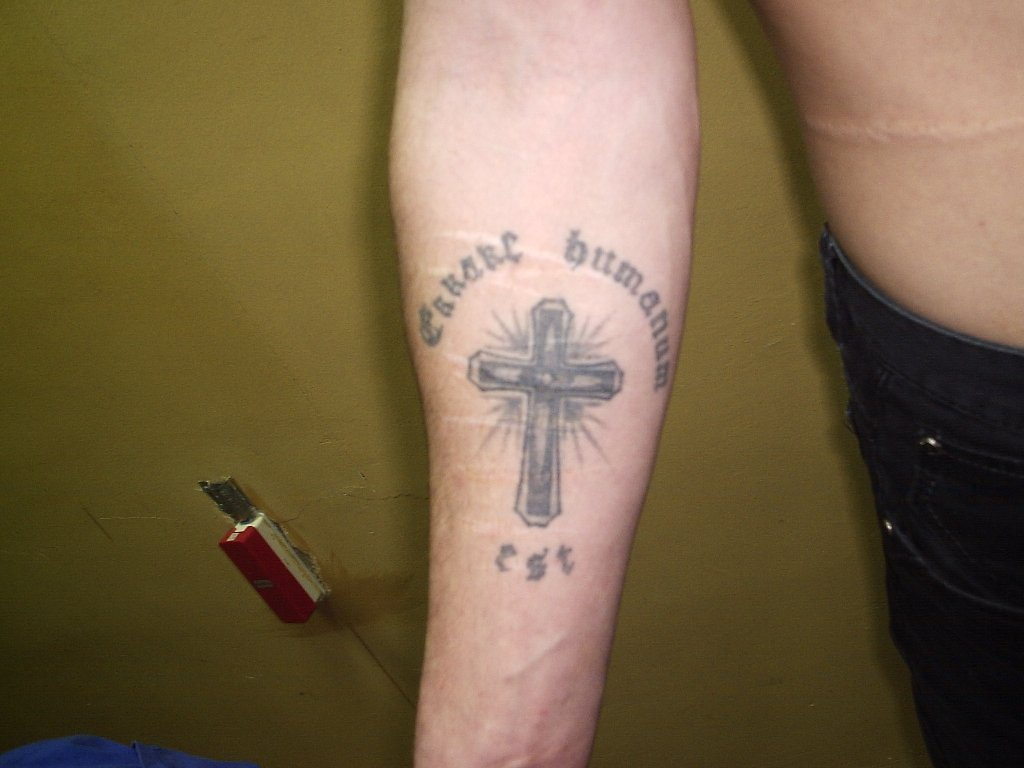tatu9_krest: (468, 280, 620, 537)
